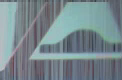Speed Breaker ahead: (15, 3, 116, 66)
